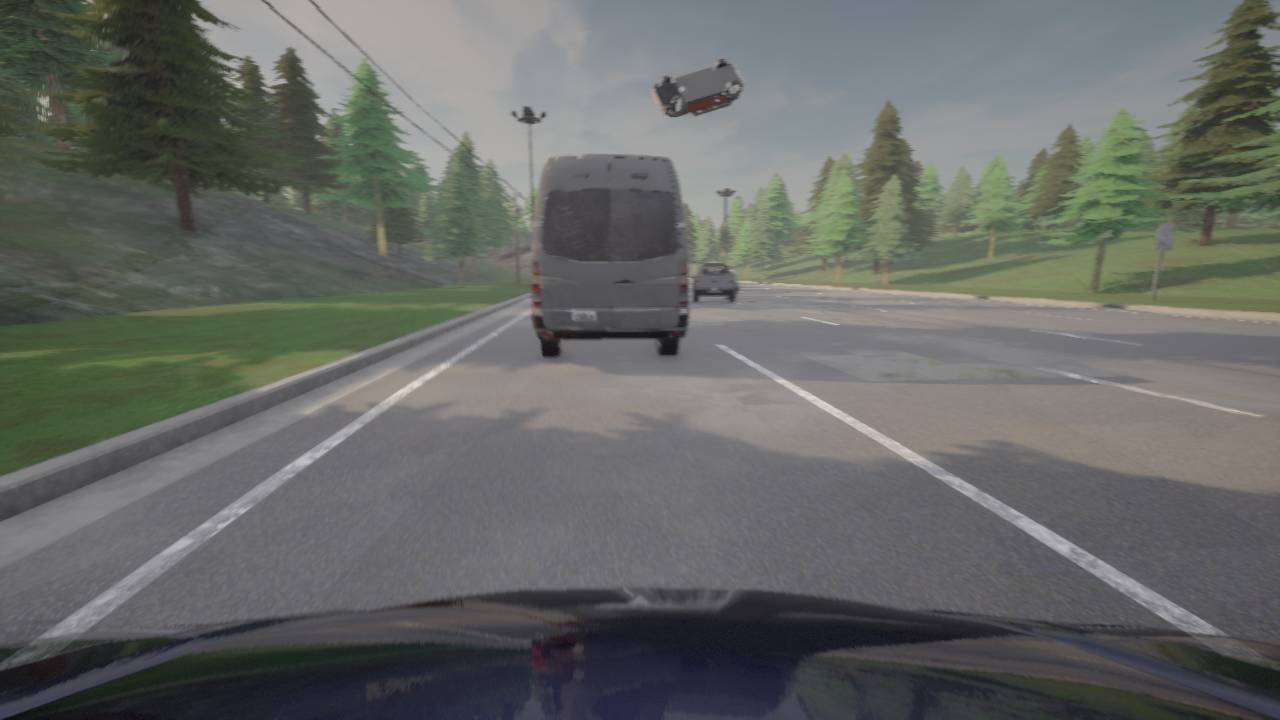cyclist: (0, 588, 1279, 719), (531, 154, 688, 357), (653, 58, 744, 117), (691, 264, 735, 301), (730, 269, 738, 293)
